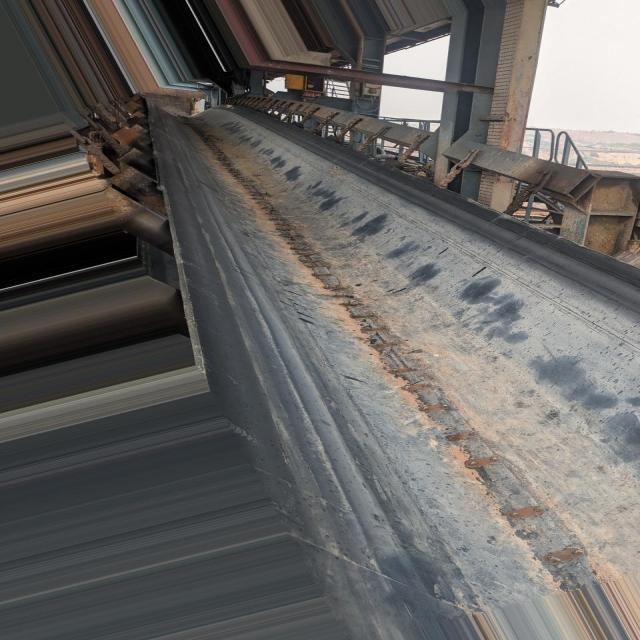Roller: (115, 189, 174, 253), (121, 147, 158, 181)
patch work: (187, 121, 607, 589)
